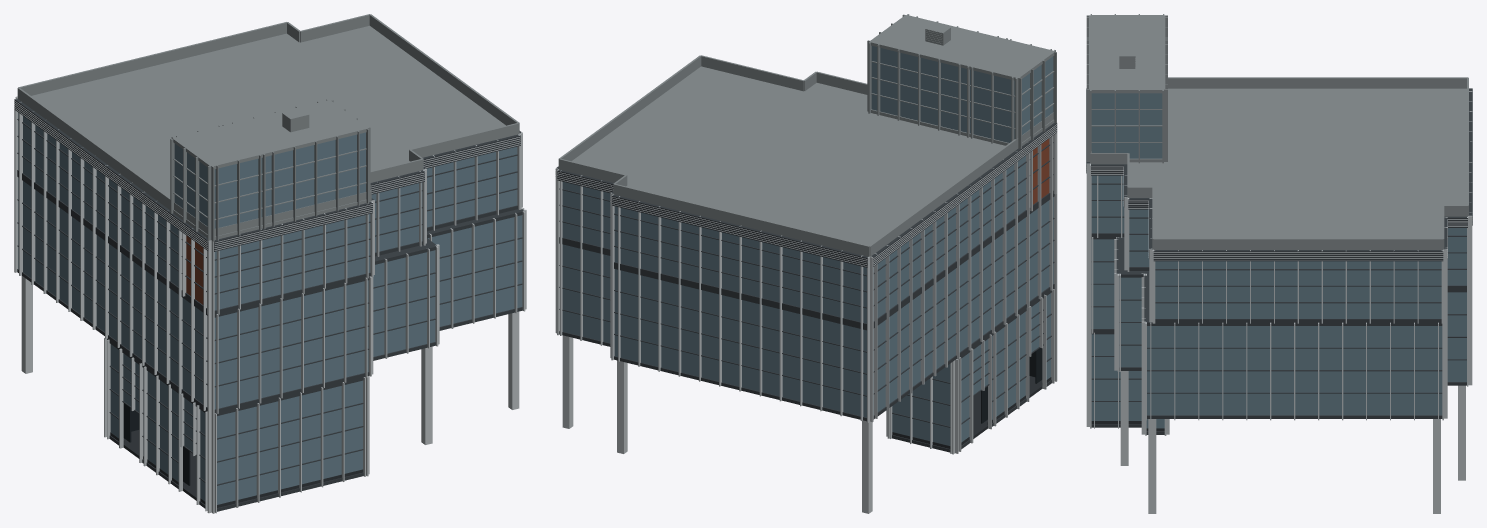
The model's file is building-v3-lod0.glb.
The picture shows the model from 3 angles, left to right: view 1: azimuth 30°, elevation 25°; view 2: azimuth 150°, elevation 25°; view 3: azimuth 270°, elevation 25°; orthographic projection. The views are drawn at different scales.
Visible parts, largest first — view 1: building-v3_MATERIAL_BATCH; view 2: building-v3_MATERIAL_BATCH; view 3: building-v3_MATERIAL_BATCH.
Part boxes in pixels (x1,y1,x2,y2): building-v3_MATERIAL_BATCH: (14,14,526,513); building-v3_MATERIAL_BATCH: (555,14,1057,513); building-v3_MATERIAL_BATCH: (1086,14,1472,513).
Size of the model in its own units: 22.05 by 21.8 by 21.8.
